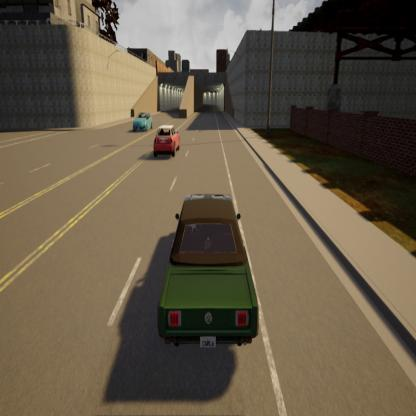Cars: (158, 192, 259, 356), (153, 124, 181, 158), (133, 108, 153, 134)
